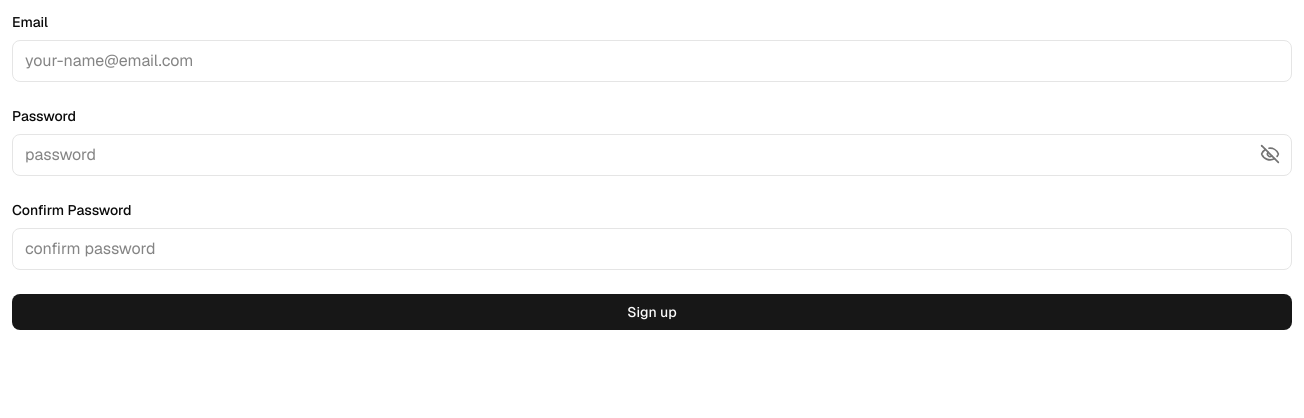
Test: SignupForm › should show error message on failed signup
The width and height of the screenshot is (1304, 418).
In the field labelled "Email": (652, 61) [12,40,1292,82], type "existing@example.com"
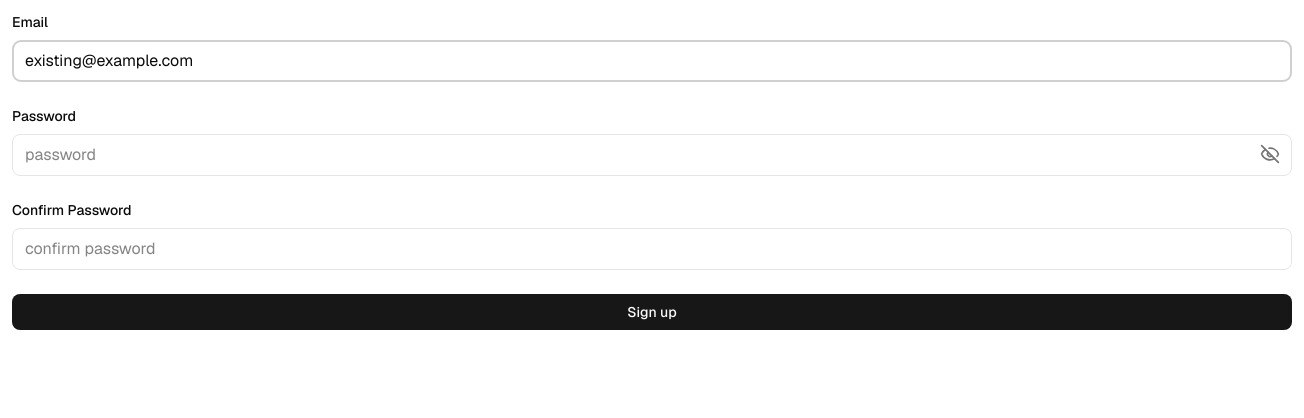
In the password field labelled "Password": (652, 155) [12,134,1292,176], type "password123"
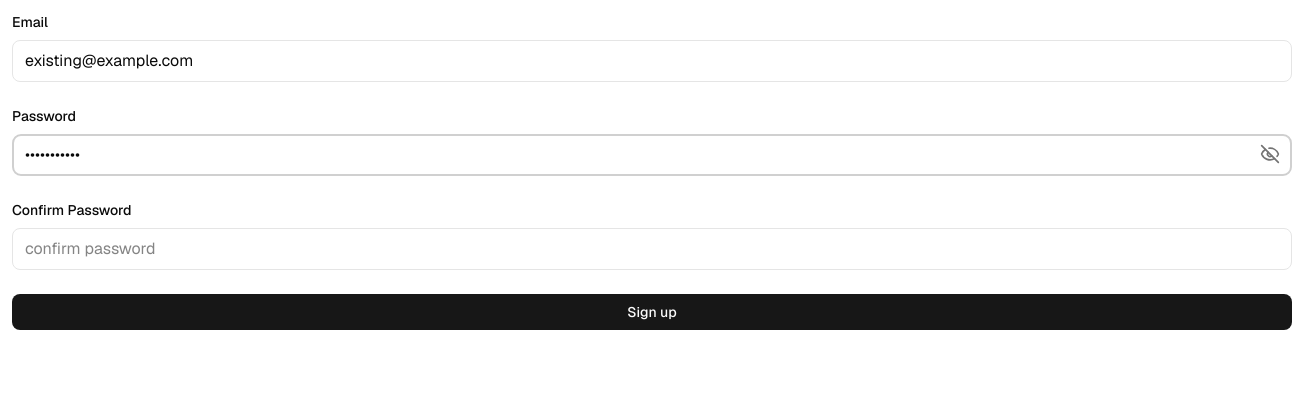
In the password field labelled "Confirm Password": (652, 249) [12,228,1292,270], type "password123"
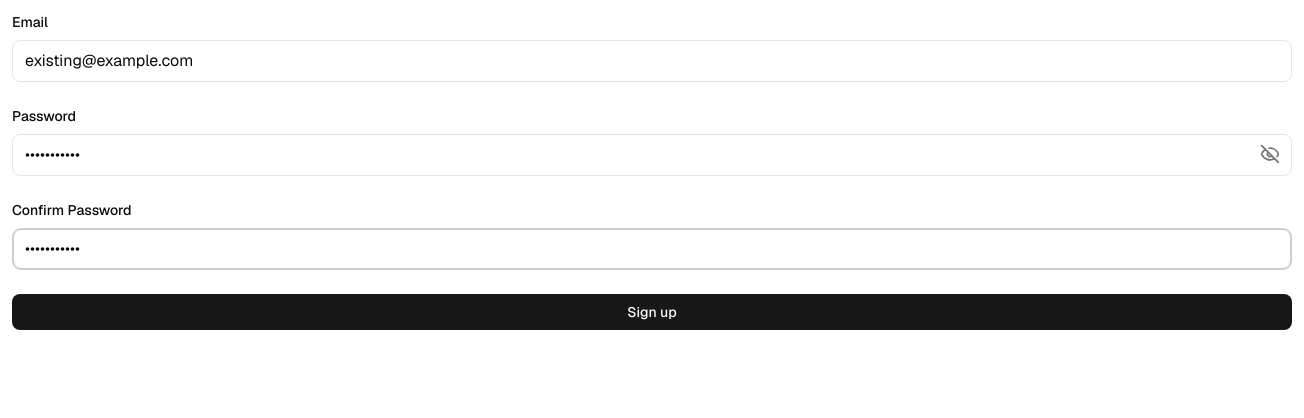
Click the button "Sign up": (652, 312) [12,294,1292,330]
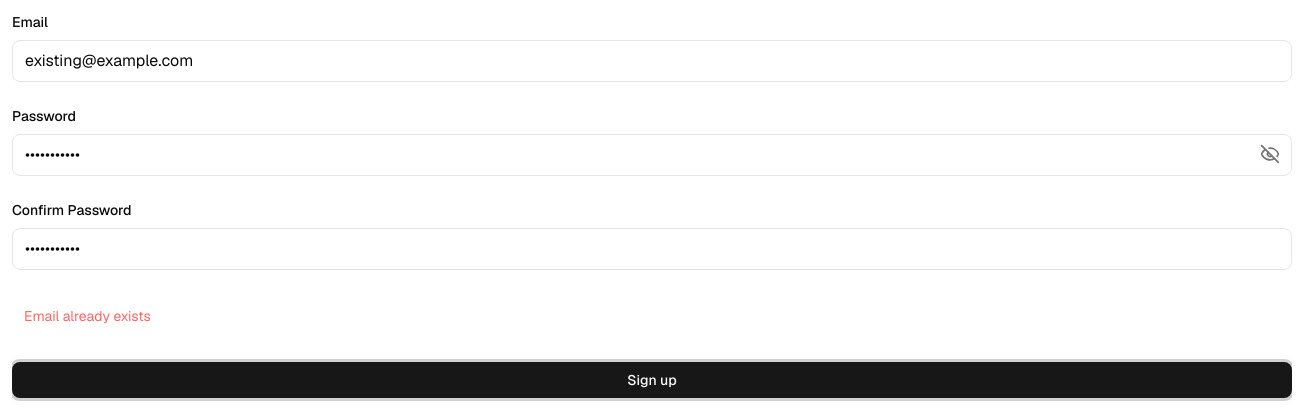
Now the text "Email already exists" is shown, box [24,307,151,325]
